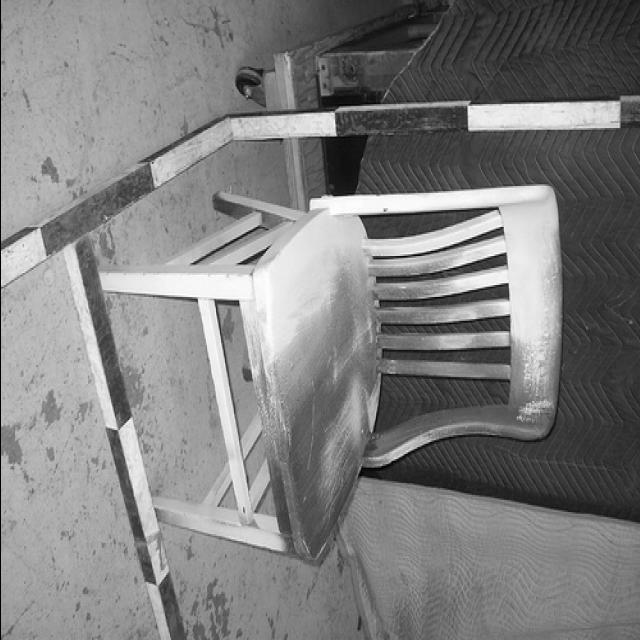chair: (93, 180, 562, 564)
